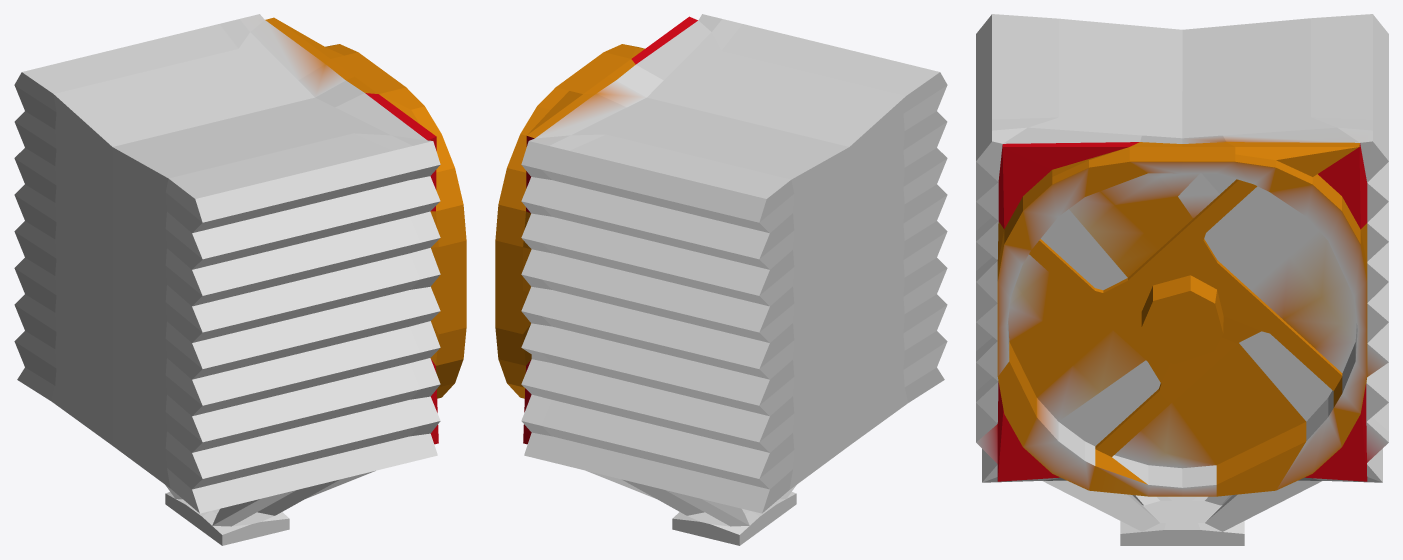
Rendered from CPU_Cooler(NEW).fbx.
3 renders of one model, left to right at view 1: azimuth 30°, elevation 25°; view 2: azimuth 150°, elevation 25°; view 3: azimuth 270°, elevation 25°, orthographic. The views are drawn at different scales.
Visible parts, largest first — view 1: CPU_Cooler_base; view 2: CPU_Cooler_base; view 3: CPU_Cooler_base.
Part boxes in pixels (box(x1,y1,x2,y2)): CPU_Cooler_base: box(14, 14, 466, 545); CPU_Cooler_base: box(495, 14, 947, 545); CPU_Cooler_base: box(976, 14, 1388, 545).
Size of the model in its own units: 8.15 by 11.66 by 9.69.
